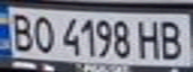1: (78, 16, 96, 57)
4: (57, 15, 81, 56)
8: (112, 17, 136, 59)
9: (93, 16, 115, 57)
B: (154, 17, 190, 61), (6, 10, 36, 52)
H: (136, 17, 163, 61)
O: (30, 12, 57, 54)
